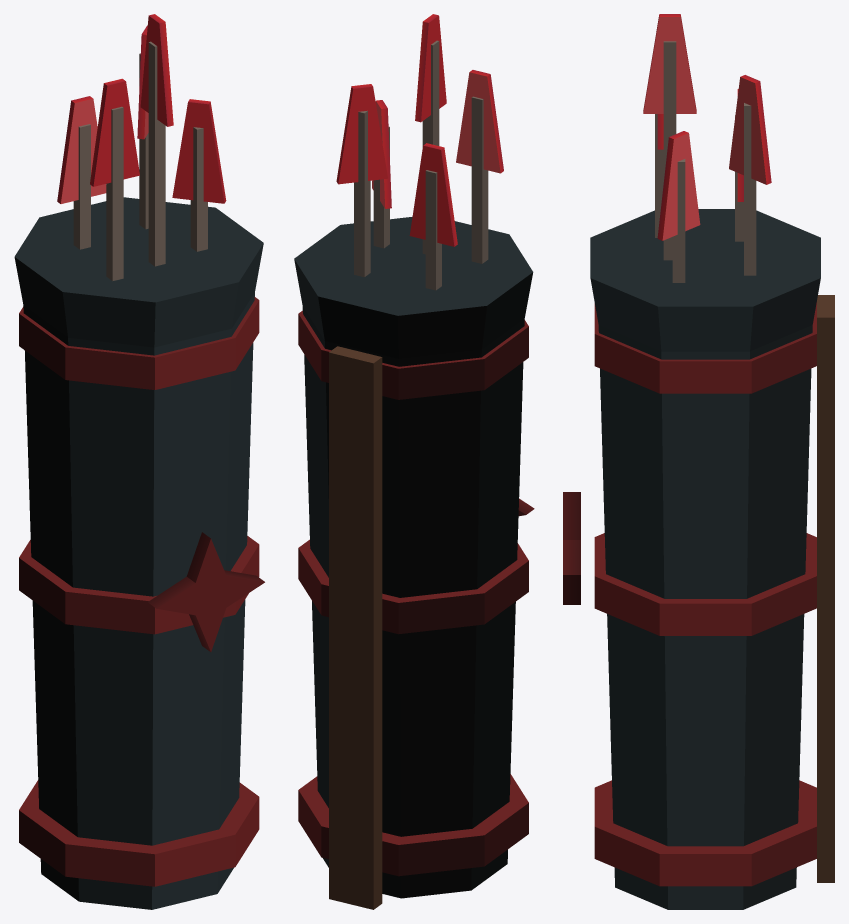
File: ranger_off_3.gltf
The picture shows the model from 3 angles, left to right: view 1: azimuth 30°, elevation 25°; view 2: azimuth 150°, elevation 25°; view 3: azimuth 270°, elevation 25°; orthographic projection. The views are drawn at different scales.
Visible parts, largest first — view 1: ranger_off_3; view 2: ranger_off_3; view 3: ranger_off_3.
Part boxes in pixels (x1=…): ranger_off_3: x1=14, y1=14, x2=264, y2=909; ranger_off_3: x1=294, y1=14, x2=534, y2=909; ranger_off_3: x1=563, y1=14, x2=834, y2=909.
Size of the model in its own units: 0.2587 by 1.08 by 0.305.
Materials: 1 (1 with a texture image).
